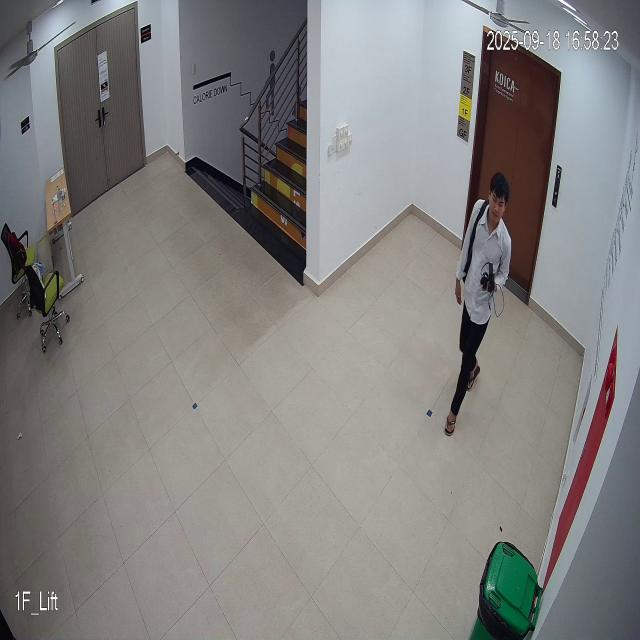face: (486, 170, 509, 229)
